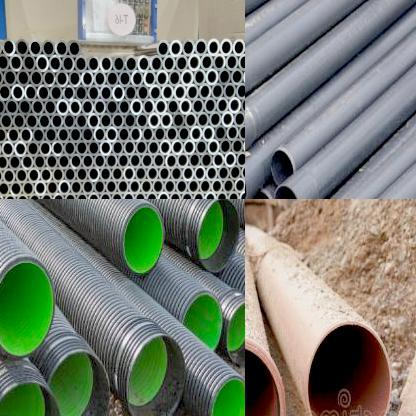pipe: (308, 321, 391, 416), (0, 257, 55, 359), (126, 333, 185, 416), (48, 350, 110, 416), (198, 199, 239, 273), (123, 204, 164, 276), (0, 379, 62, 416), (184, 292, 222, 352), (210, 375, 245, 416), (226, 299, 245, 365), (270, 149, 294, 186), (274, 185, 301, 199), (200, 52, 214, 72), (42, 68, 56, 88), (42, 38, 56, 58), (22, 53, 36, 72), (175, 53, 189, 72), (162, 54, 176, 73), (48, 54, 62, 73), (74, 54, 88, 73), (112, 54, 126, 73), (16, 68, 30, 87), (4, 68, 18, 87), (68, 69, 82, 88), (55, 69, 69, 88), (11, 83, 25, 102), (136, 83, 150, 102), (24, 83, 38, 102), (124, 83, 138, 102), (16, 38, 30, 57), (55, 39, 69, 58), (30, 68, 43, 88), (9, 54, 23, 72), (168, 69, 182, 87), (118, 70, 132, 88), (198, 82, 212, 100), (62, 84, 76, 102), (166, 97, 180, 115), (18, 97, 32, 115), (31, 98, 45, 116), (12, 112, 26, 130), (194, 38, 208, 56), (2, 38, 16, 56), (188, 53, 201, 72), (225, 53, 238, 72), (36, 53, 49, 72), (150, 54, 163, 73), (125, 54, 138, 73), (218, 67, 231, 86), (161, 83, 174, 102), (149, 83, 162, 102), (37, 83, 50, 102), (232, 37, 245, 56), (68, 39, 81, 58), (157, 39, 170, 58), (213, 52, 225, 72), (154, 98, 168, 115), (142, 98, 156, 115), (56, 98, 70, 115), (68, 98, 82, 115), (62, 113, 76, 130), (226, 124, 240, 141), (26, 140, 40, 157), (8, 154, 22, 171), (2, 167, 16, 184), (100, 55, 113, 73), (87, 55, 100, 73), (193, 68, 206, 86), (131, 70, 144, 88), (94, 70, 107, 88), (81, 70, 94, 88), (186, 83, 199, 101), (75, 84, 88, 102), (50, 84, 63, 102), (216, 96, 229, 114), (38, 112, 51, 130), (40, 166, 53, 184), (219, 38, 232, 56), (207, 38, 220, 56), (29, 38, 42, 56), (182, 38, 195, 56), (62, 54, 74, 73), (231, 67, 243, 86), (130, 98, 143, 115), (94, 98, 107, 115), (81, 98, 94, 115), (44, 98, 57, 115), (221, 110, 234, 127), (209, 111, 222, 128), (75, 113, 88, 130), (51, 113, 64, 130), (0, 112, 13, 129), (94, 126, 107, 143), (69, 126, 82, 143), (32, 127, 45, 144), (7, 127, 20, 144), (195, 139, 208, 156), (39, 140, 52, 157), (170, 165, 183, 182), (52, 166, 65, 183), (16, 167, 29, 184), (138, 55, 150, 73), (206, 68, 218, 86), (181, 68, 193, 86), (156, 69, 168, 87), (144, 70, 156, 88), (106, 70, 118, 88), (224, 82, 236, 100), (174, 83, 186, 101), (112, 84, 124, 102), (100, 84, 112, 102), (88, 84, 100, 102), (229, 96, 241, 114), (204, 96, 216, 114), (192, 97, 204, 115), (6, 97, 18, 115), (26, 112, 38, 130), (20, 126, 32, 144), (14, 140, 26, 158), (2, 140, 14, 158), (153, 152, 165, 170), (106, 152, 118, 170), (28, 166, 40, 184), (170, 40, 182, 58), (0, 82, 11, 101), (21, 154, 34, 170), (199, 178, 212, 194), (22, 180, 35, 196), (180, 97, 192, 114), (118, 98, 130, 115), (106, 98, 118, 115), (148, 112, 160, 129), (136, 112, 148, 129), (124, 112, 136, 129), (112, 112, 124, 129), (100, 112, 112, 129), (88, 112, 100, 129), (214, 124, 226, 141), (118, 126, 130, 143), (106, 126, 118, 143), (82, 126, 94, 143), (58, 127, 70, 144), (45, 127, 57, 144), (220, 138, 232, 155), (184, 139, 196, 156), (172, 139, 184, 156), (160, 139, 172, 156), (136, 139, 148, 156), (124, 139, 136, 156), (148, 139, 160, 156), (112, 139, 124, 156), (100, 139, 112, 156), (52, 140, 64, 157), (224, 151, 236, 168), (189, 152, 201, 169), (177, 152, 189, 169), (141, 152, 153, 169), (130, 152, 142, 169), (166, 152, 178, 169), (58, 153, 70, 170), (230, 164, 242, 181), (206, 165, 218, 182), (182, 165, 194, 182), (146, 165, 158, 182), (135, 165, 147, 182), (76, 166, 88, 183), (64, 166, 76, 183), (129, 178, 141, 195), (106, 178, 118, 195), (212, 82, 223, 100), (198, 110, 209, 128), (118, 152, 129, 170), (185, 112, 197, 128), (172, 112, 184, 128), (160, 112, 172, 128), (190, 126, 202, 142), (178, 126, 190, 142), (154, 126, 166, 142), (166, 126, 178, 142), (142, 126, 154, 142), (130, 126, 142, 142), (232, 138, 244, 154), (88, 140, 100, 156), (76, 140, 88, 156), (64, 140, 76, 156), (212, 152, 224, 168), (200, 152, 212, 168), (94, 153, 106, 169), (82, 154, 94, 170), (70, 154, 82, 170), (46, 154, 58, 170), (34, 154, 46, 170), (218, 165, 230, 181), (194, 166, 206, 182), (158, 166, 170, 182), (112, 166, 124, 182), (100, 166, 112, 182), (88, 166, 100, 182), (211, 178, 223, 194), (176, 178, 188, 194), (164, 178, 176, 194), (152, 178, 164, 194), (140, 178, 152, 194), (117, 178, 129, 194), (188, 178, 200, 194), (94, 178, 106, 194), (82, 179, 94, 195), (70, 180, 82, 196), (46, 180, 58, 196), (58, 180, 70, 196), (34, 180, 46, 196), (10, 181, 22, 197), (0, 53, 10, 72), (234, 110, 245, 127), (203, 125, 214, 142), (208, 138, 219, 155), (234, 177, 245, 193), (223, 178, 234, 194), (235, 82, 245, 99), (124, 165, 134, 182), (236, 151, 245, 167), (0, 181, 9, 197), (0, 154, 8, 171), (238, 53, 245, 71), (227, 189, 239, 199), (238, 124, 245, 141), (0, 126, 7, 143), (215, 190, 228, 199), (192, 191, 204, 199), (181, 191, 193, 199), (169, 191, 181, 199), (157, 191, 169, 199), (134, 191, 146, 199), (111, 191, 123, 199), (99, 191, 111, 199), (88, 191, 100, 199), (145, 192, 158, 199), (0, 97, 5, 115), (204, 191, 215, 199), (123, 191, 134, 199), (240, 96, 245, 113), (76, 192, 88, 199), (64, 192, 76, 199), (52, 192, 64, 199), (41, 192, 53, 199), (16, 193, 29, 199), (28, 193, 40, 199), (4, 194, 17, 199), (241, 164, 245, 180), (239, 189, 245, 199), (0, 68, 3, 87), (0, 167, 3, 184)
